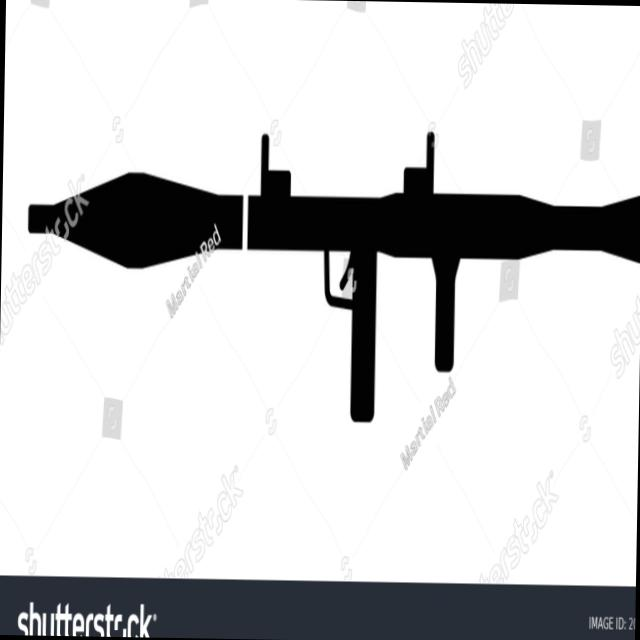Gun: (0, 108, 640, 433)
